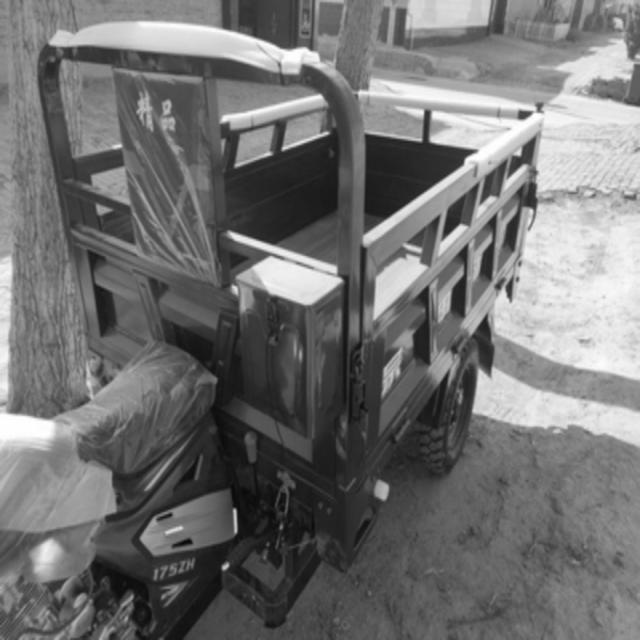tricycle: (0, 17, 544, 638)
